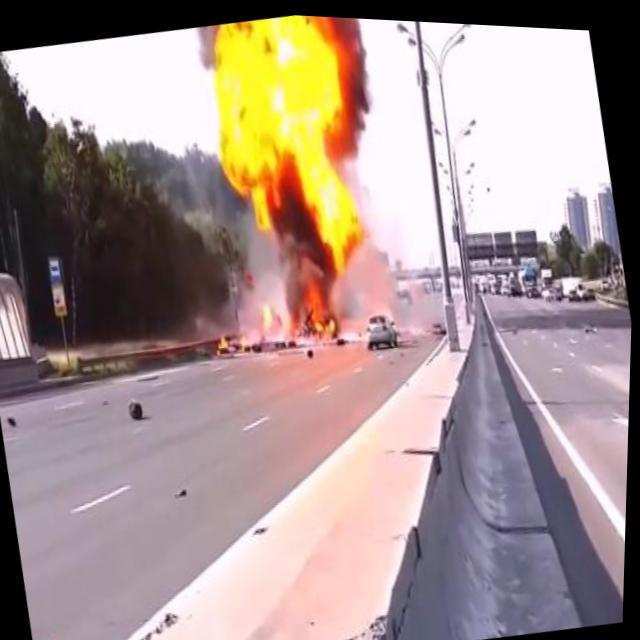fire: (190, 8, 382, 286), (252, 275, 345, 354), (212, 326, 255, 357)
